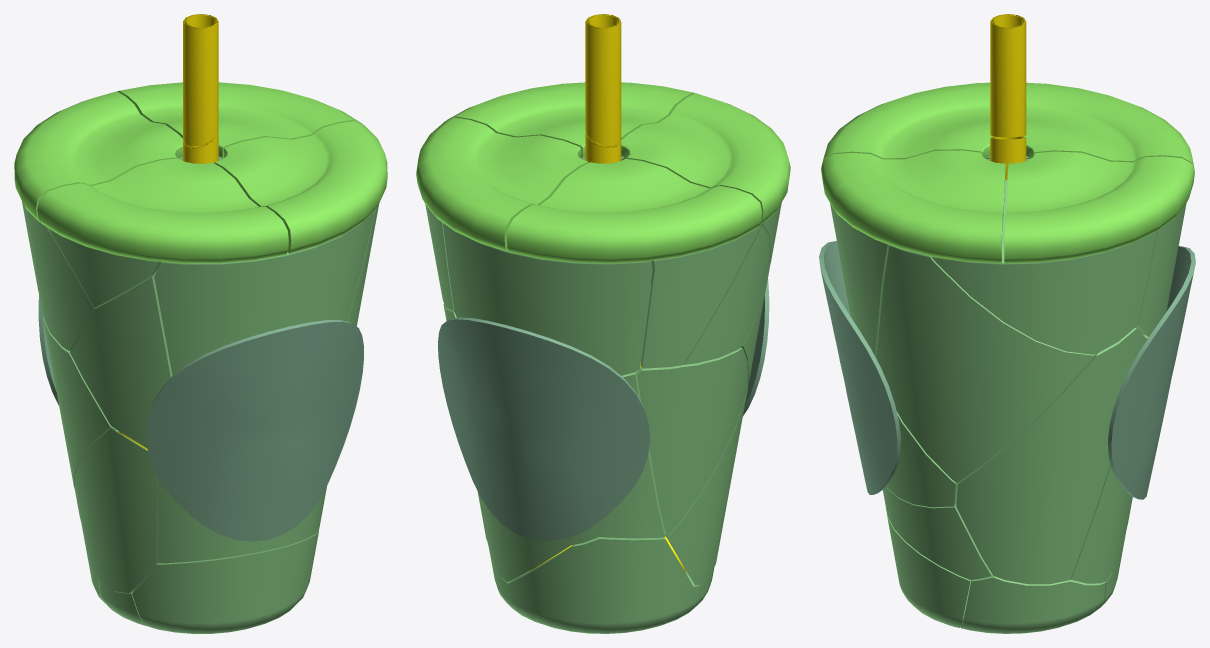
File: level_194.fbx
3 renders of one model, left to right at view 1: azimuth 30°, elevation 25°; view 2: azimuth 150°, elevation 25°; view 3: azimuth 270°, elevation 25°, orthographic.
Visible parts, largest first — view 1: Cube_L2_17, Cube_L1, Cube_L2_4, Cube_L1_2, Cube_L2_11, Cube_L1_1, Cube_L2_7, Cube_L2_2, Cube_L1_3, Cube_L2_13, Cube_L4, Cube_L2_1 (+7 smaller); view 2: Cube_L2_18, Cube_L1_1, Cube_L2_9, Cube_L2_8, Cube_L1_3, Cube_L2_1, Cube_L1, Cube_L2_6, Cube_L1_2, Cube_L4, Cube_L2_7, Cube_L2 (+7 smaller); view 3: Cube_L2_16, Cube_L2_15, Cube_L1_3, Cube_L1_2, Cube_L2_19, Cube_L1_1, Cube_L2_18, Cube_L1, Cube_L2_17, Cube_L2_10, Cube_L2_13, Cube_L4 (+6 smaller).
Part boxes in pixels (bbox=[...]): Cube_L2_17: bbox=[146, 319, 363, 541]; Cube_L1: bbox=[37, 158, 288, 263]; Cube_L2_4: bbox=[154, 210, 374, 375]; Cube_L1_2: bbox=[214, 121, 387, 253]; Cube_L2_11: bbox=[132, 530, 318, 633]; Cube_L1_1: bbox=[14, 91, 183, 222]; Cube_L2_7: bbox=[74, 428, 156, 593]; Cube_L2_2: bbox=[70, 272, 172, 448]; Cube_L1_3: bbox=[117, 82, 362, 158]; Cube_L2_13: bbox=[156, 475, 326, 563]; Cube_L4: bbox=[183, 14, 218, 146]; Cube_L2_1: bbox=[43, 317, 115, 486]; Cube_L2_18: bbox=[438, 317, 649, 541]; Cube_L1_1: bbox=[507, 158, 761, 263]; Cube_L2_9: bbox=[443, 223, 652, 375]; Cube_L2_8: bbox=[508, 537, 693, 633]; Cube_L1_3: bbox=[416, 117, 588, 251]; Cube_L2_1: bbox=[637, 348, 748, 536]; Cube_L1: bbox=[620, 93, 790, 225]; Cube_L2_6: bbox=[641, 225, 761, 368]; Cube_L1_2: bbox=[447, 82, 694, 157]; Cube_L4: bbox=[585, 14, 621, 146]; Cube_L2_7: bbox=[665, 388, 747, 585]; Cube_L2: bbox=[684, 225, 770, 364]; Cube_L2_16: bbox=[876, 245, 1095, 482]; Cube_L2_15: bbox=[956, 327, 1146, 584]; Cube_L1_3: bbox=[1004, 151, 1194, 263]; Cube_L1_2: bbox=[821, 150, 1005, 263]; Cube_L2_19: bbox=[931, 231, 1156, 354]; Cube_L1_1: bbox=[1023, 82, 1194, 172]; Cube_L2_18: bbox=[1108, 246, 1195, 499]; Cube_L1: bbox=[821, 82, 993, 167]; Cube_L2_17: bbox=[819, 241, 900, 494]; Cube_L2_10: bbox=[961, 575, 1105, 633]; Cube_L2_13: bbox=[883, 486, 992, 579]; Cube_L4: bbox=[990, 14, 1026, 137].
Bounding box in the file's own units: 13.83 × 23.46 × 13.95.
